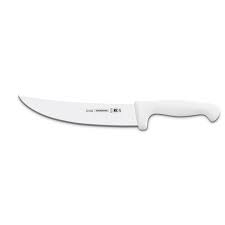kuchillu: (12, 82, 221, 138)
